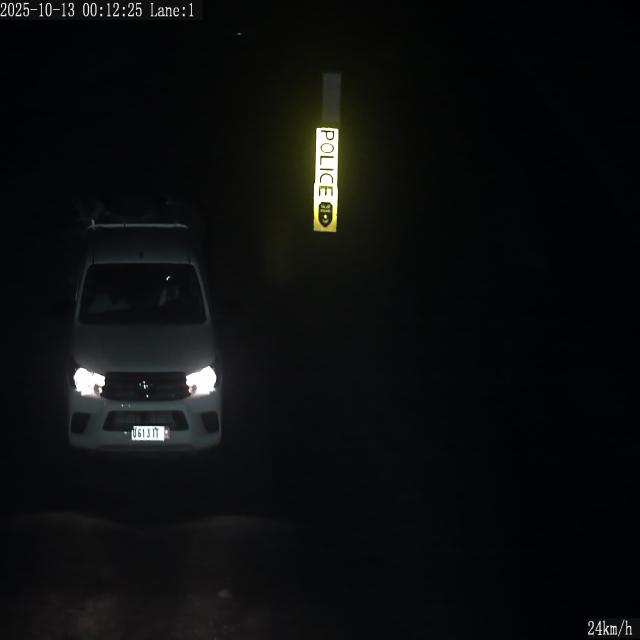BUS: (132, 426, 169, 441)
